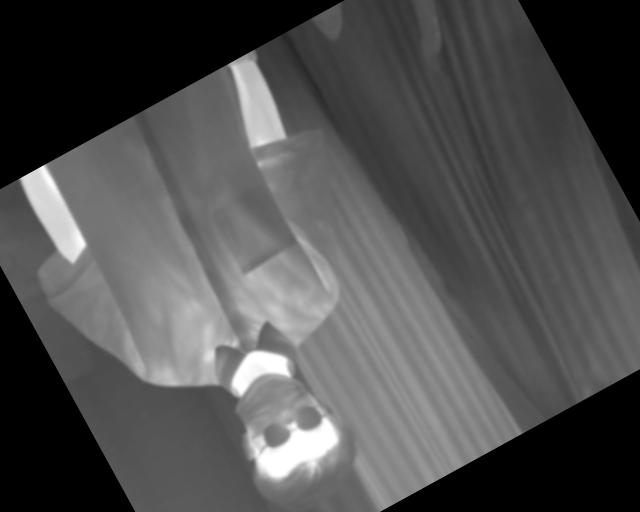face: (205, 346, 378, 512)
